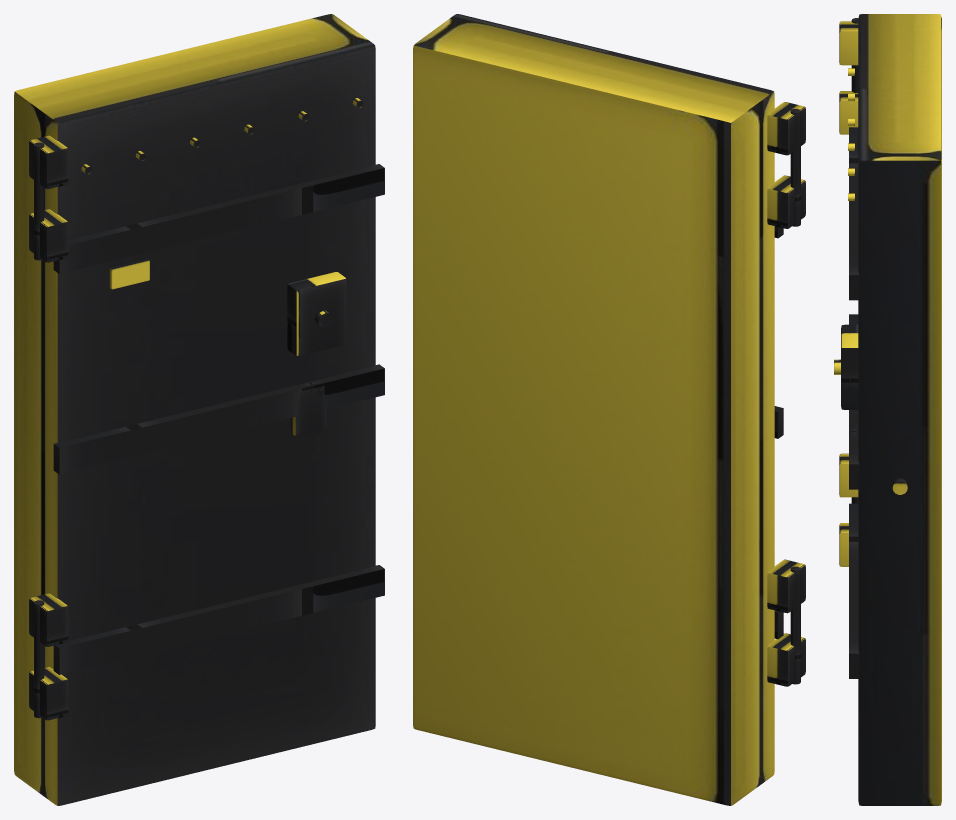
File: DD_door_metal.glb
3 views of the same model, side by side, from view 1: azimuth 30°, elevation 25°; view 2: azimuth 150°, elevation 25°; view 3: azimuth 270°, elevation 25° (orthographic). The views are drawn at different scales.
Visible parts, largest first — view 1: DD_door_metal; view 2: DD_door_metal; view 3: DD_door_metal.
Boxes of the visible parts, x1=… form: DD_door_metal: x1=14, y1=14, x2=384, y2=805; DD_door_metal: x1=413, y1=14, x2=805, y2=805; DD_door_metal: x1=834, y1=14, x2=941, y2=805.
Size of the model in its own units: 1.09 by 2.05 by 0.31.
1 material, 1 textured.
